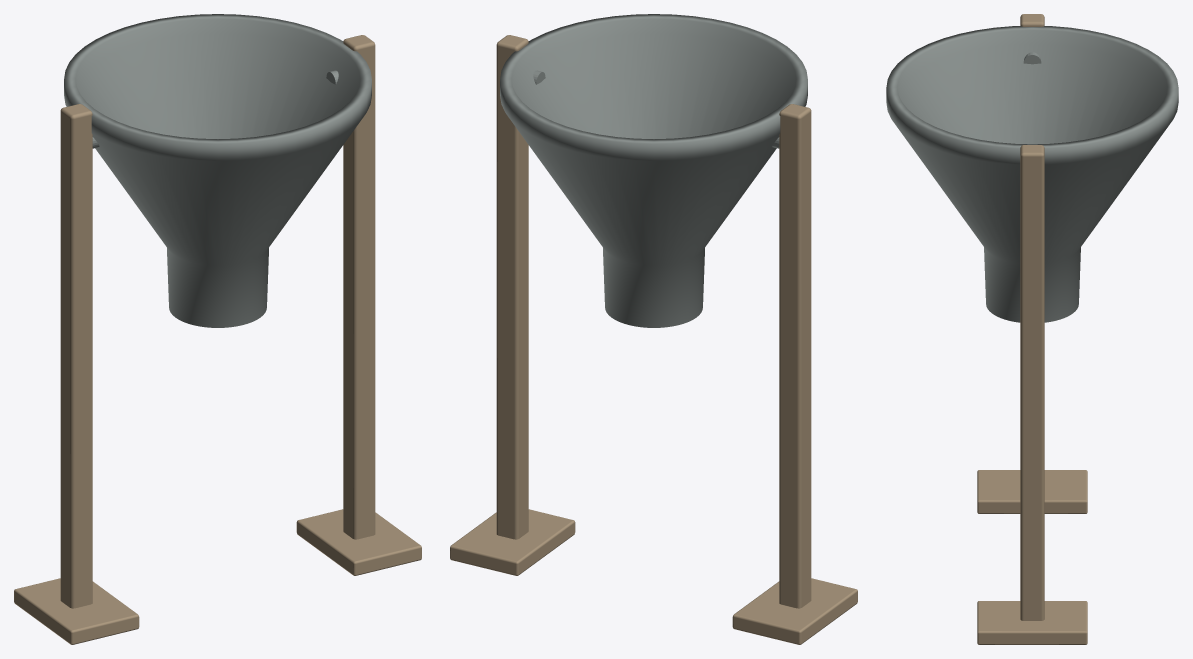
Rendered from coastal-saltworks-and-trade-port-coastal-saltworks-and-271d8e24__31394.glb.
3 views of the same model, side by side, from view 1: azimuth 30°, elevation 25°; view 2: azimuth 150°, elevation 25°; view 3: azimuth 270°, elevation 25° (orthographic). The views are drawn at different scales.
Visible parts, largest first — view 1: coastal-saltworks-and-trade-port-bag-filling-funnel; view 2: coastal-saltworks-and-trade-port-bag-filling-funnel; view 3: coastal-saltworks-and-trade-port-bag-filling-funnel.
Boxes of the visible parts, box(x1,y1,x2,y2) form: coastal-saltworks-and-trade-port-bag-filling-funnel: box(14, 14, 421, 644); coastal-saltworks-and-trade-port-bag-filling-funnel: box(450, 14, 857, 644); coastal-saltworks-and-trade-port-bag-filling-funnel: box(886, 14, 1178, 644).
Size of the model in its own units: 0.8699 by 1.2 by 0.66.
